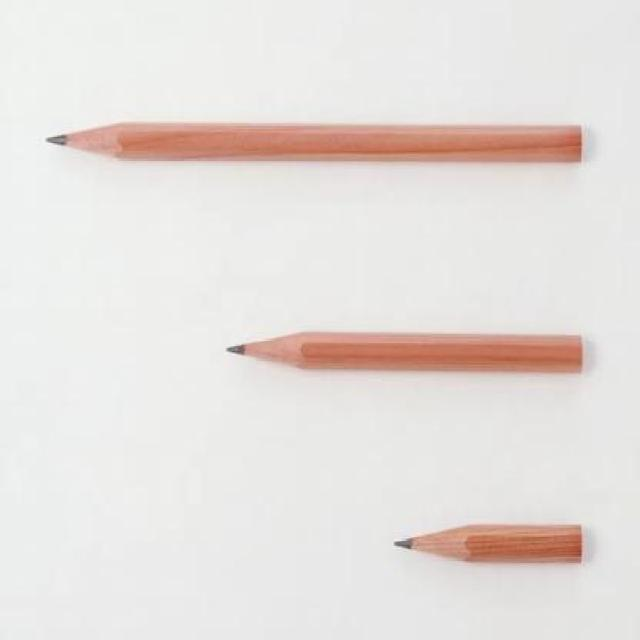pencil: (43, 117, 585, 166), (224, 329, 585, 376), (392, 519, 586, 567)
